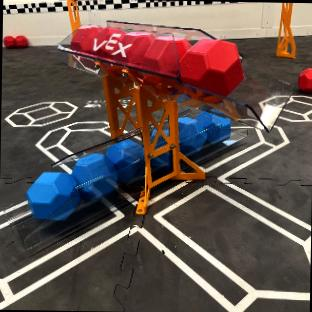V5_BLUE: (26, 172, 77, 219), (72, 153, 116, 199), (107, 139, 144, 180), (178, 117, 206, 153), (198, 111, 230, 141)
V5_RED: (179, 37, 241, 94), (140, 33, 189, 74), (298, 67, 312, 92), (15, 35, 26, 46), (4, 35, 13, 46)
blueingoal: (101, 63, 119, 71)
